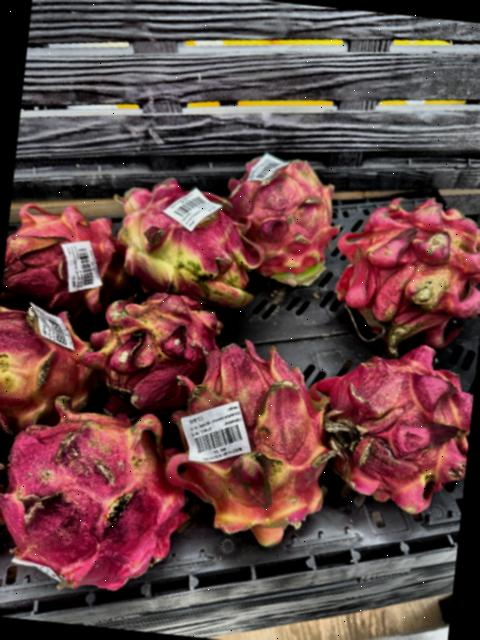buah-naga-belum-matang: (158, 338, 346, 542), (107, 180, 262, 310), (226, 147, 344, 291), (88, 286, 224, 405), (0, 293, 101, 428)
buah-naga-matang: (0, 396, 199, 606), (306, 341, 477, 512), (324, 180, 480, 360), (1, 194, 133, 312)
